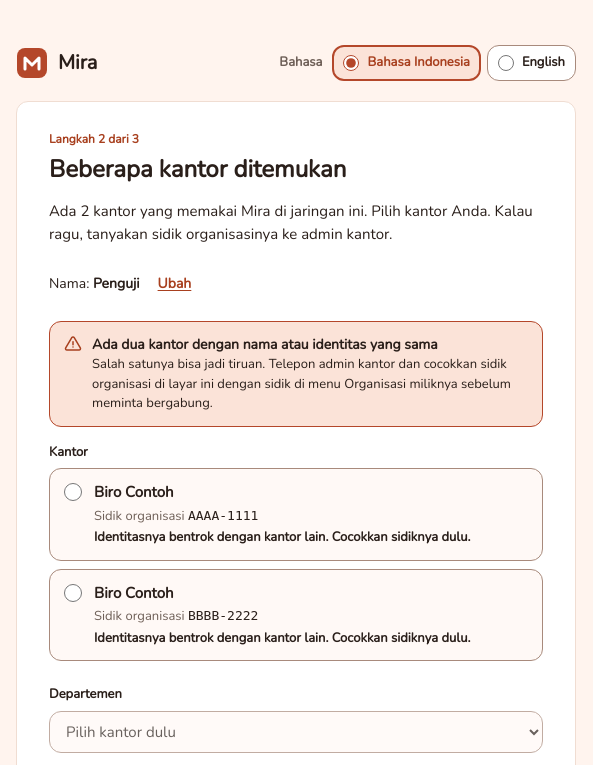
Scenario: Onboarding: langkah nama › Ubah nama tidak menghapus isian kantor, departemen, keterangan, dan centang sidik
This screenshot has width=593, height=765.
Earlier steps of the test are not shown.
Later steps or results of the test are not shown.
Step 1. Click the 4th radio button → (73, 592), box [64, 584, 82, 602]
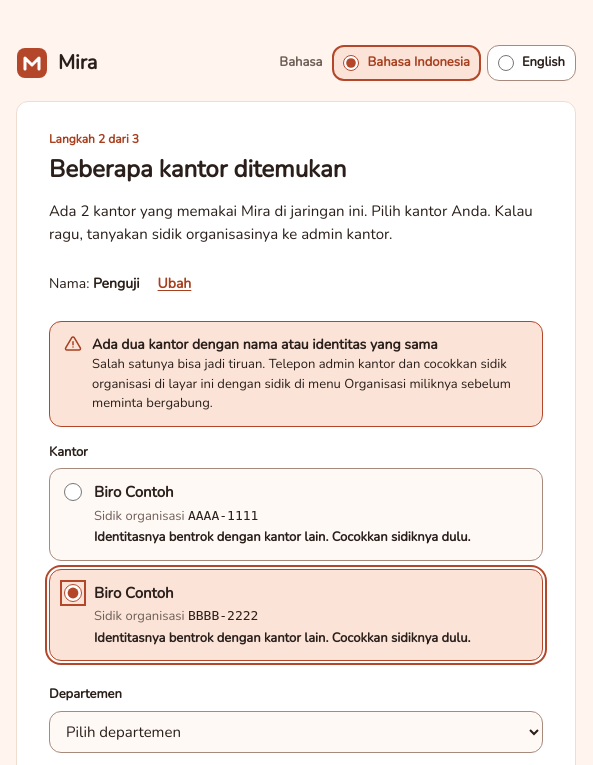
Step 2. Select "Desain" in the dropdown labelled "Departemen" → (296, 732), box [49, 710, 543, 752]
(page scrolled)
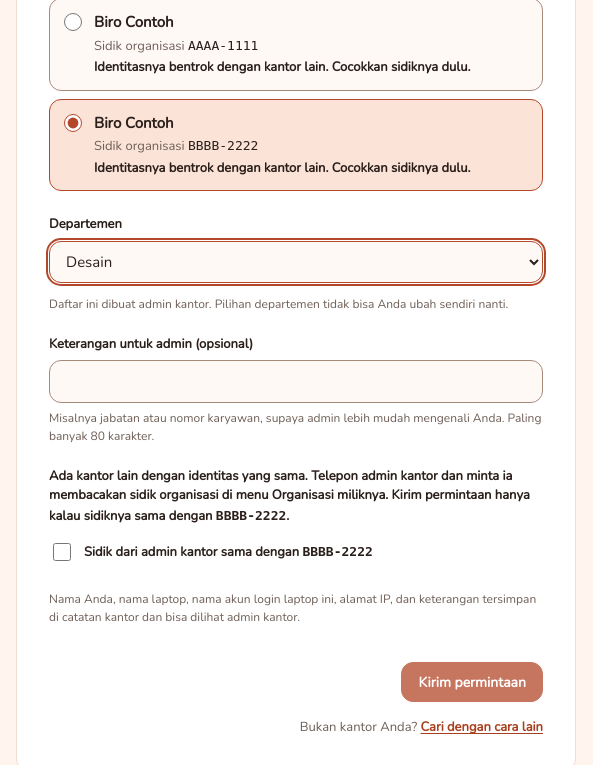
Step 3. Type "Staf gudang" into the field labelled "Keterangan untuk admin (opsional)" → (296, 381), box [49, 360, 543, 402]
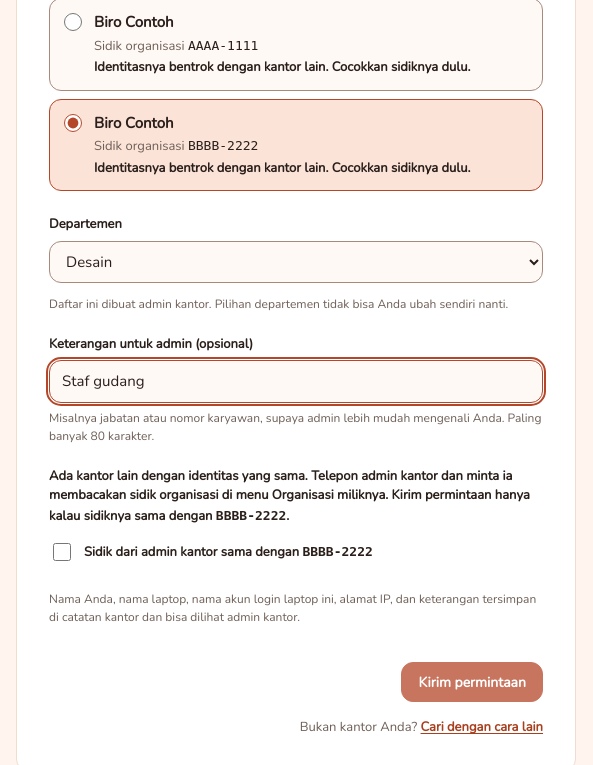
Step 4. Click the checkbox labelled "Sidik dari admin kantor sama dengan BBBB-2222" → (62, 552), box [53, 543, 71, 561]
(page scrolled)
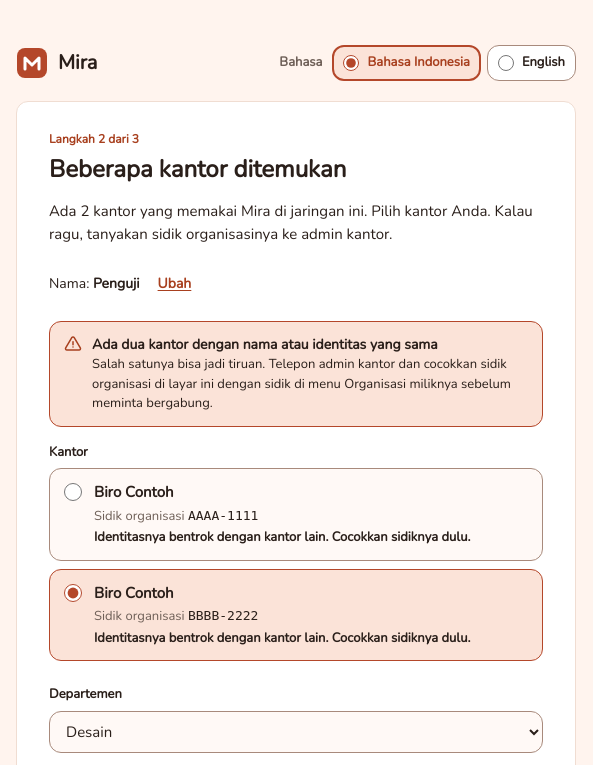
Step 5. Click the button with aria-label "Ubah nama" → (174, 283), box [152, 261, 197, 305]
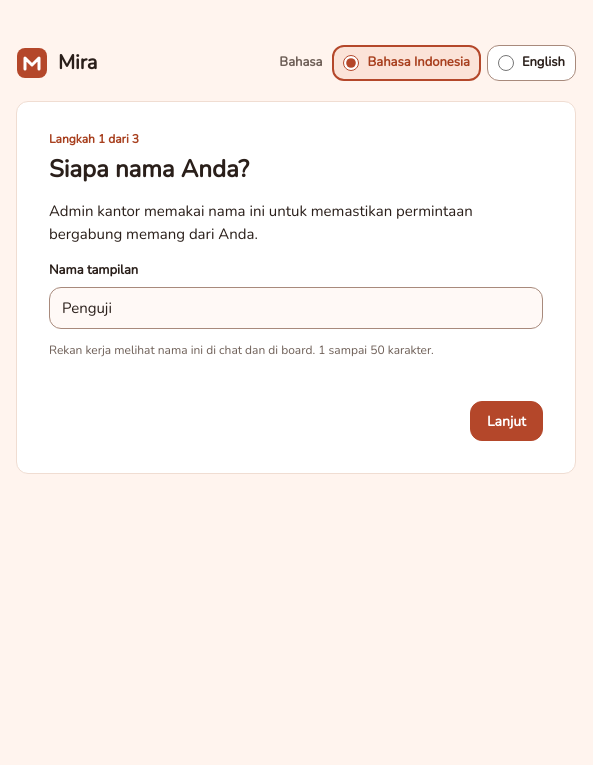
Expected: the heading "Siapa nama Anda?" is shown, [49, 153, 249, 185]
Step 6. Click the button "Lanjut" → (506, 421), box [470, 401, 543, 441]
(page scrolled)
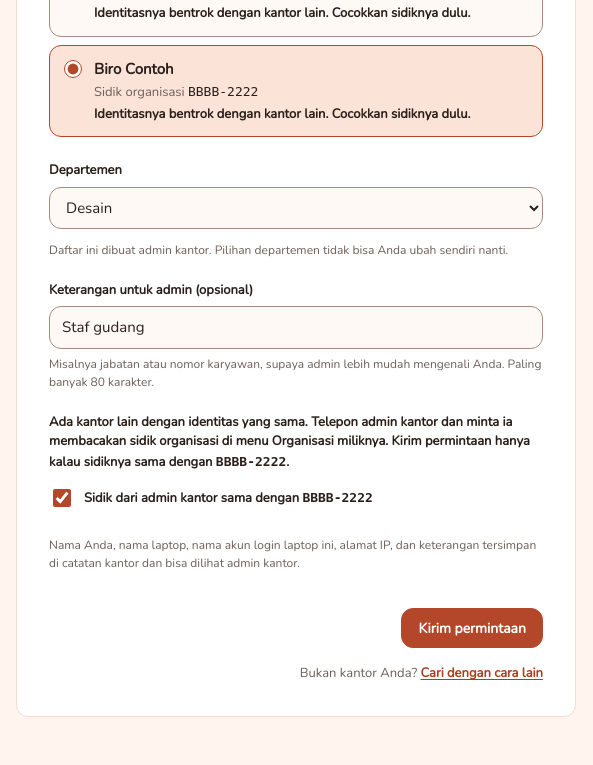
Expected: the radio button is checked, [64, 60, 82, 78]
Expected: the dropdown labelled "Departemen" shows "Desain", [49, 186, 543, 228]
Expected: the field labelled "Keterangan untuk admin (opsional)" holds "Staf gudang", [49, 306, 543, 348]
